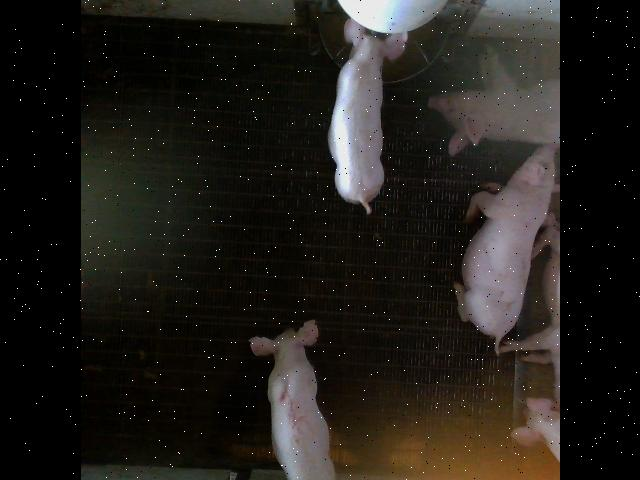pig-5: (250, 321, 334, 480)
